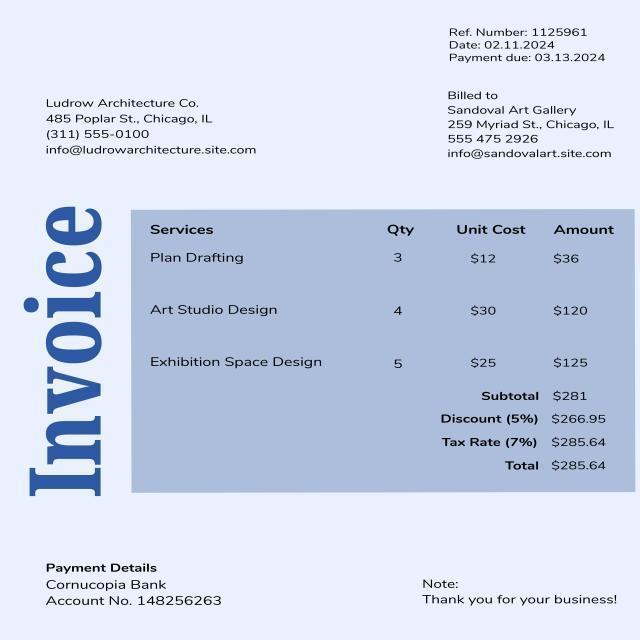ROI: (132, 211, 623, 372), (21, 199, 107, 493), (449, 25, 622, 159), (420, 390, 616, 474), (42, 95, 262, 161), (44, 557, 228, 614), (421, 576, 622, 610)
